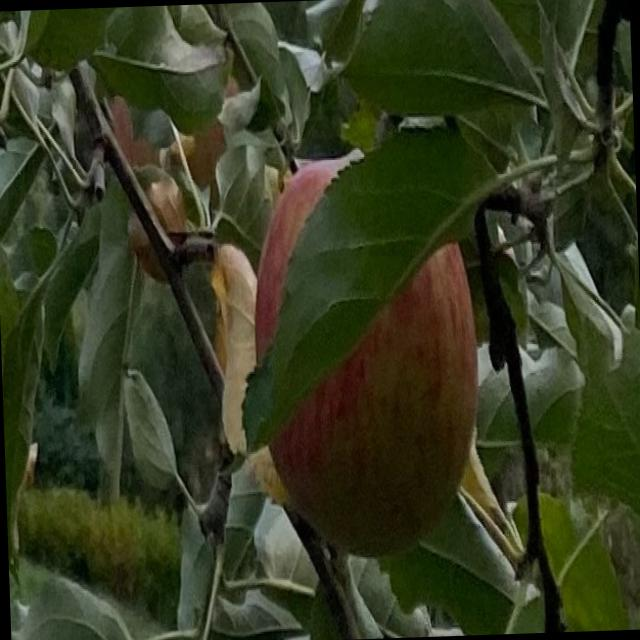Apples: (251, 157, 484, 560)
